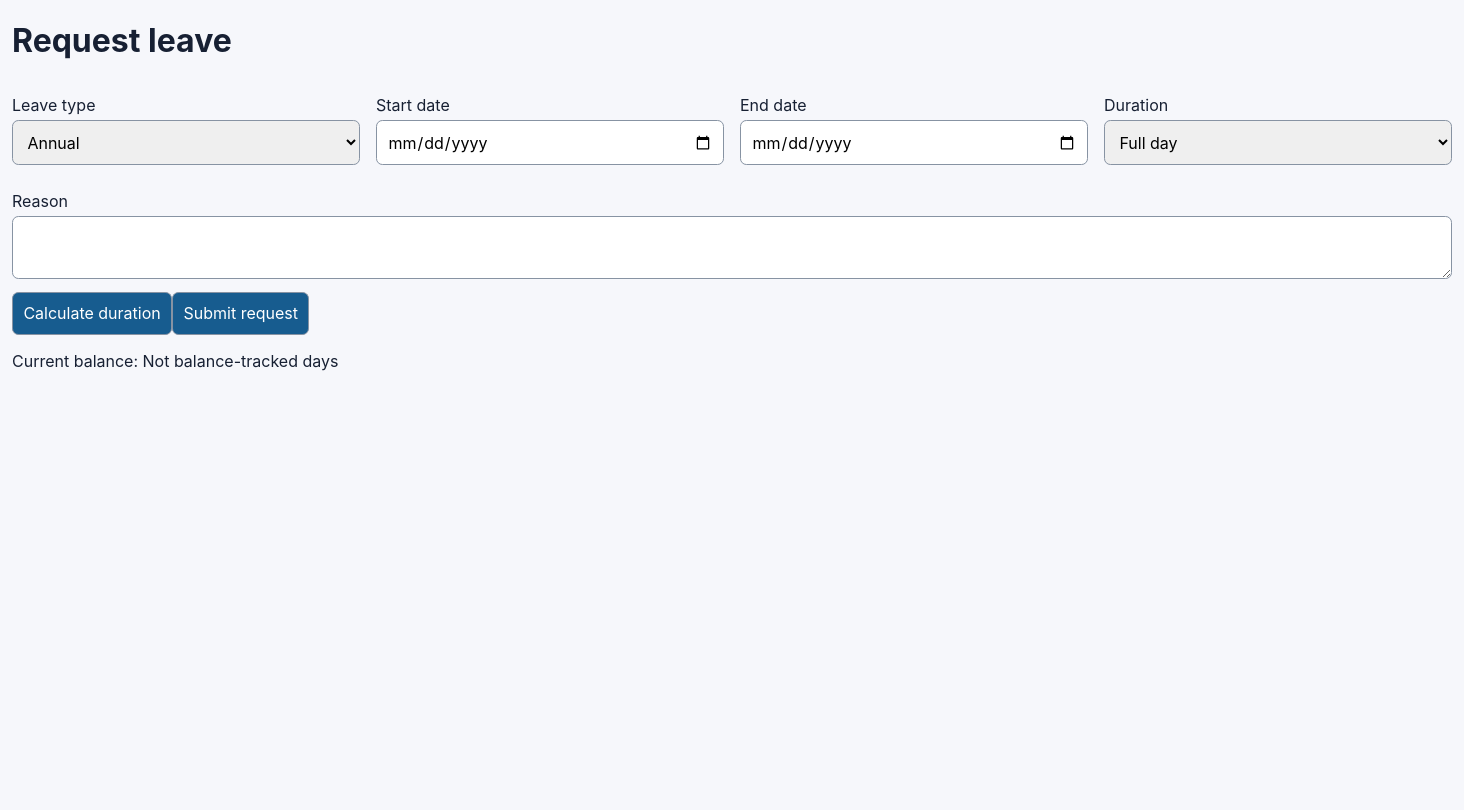
shows actionable LEAVE_OVERLAP submission problems
In the date field labelled "Start date": (550, 143) [376, 120, 724, 165], type "2026-09-01"
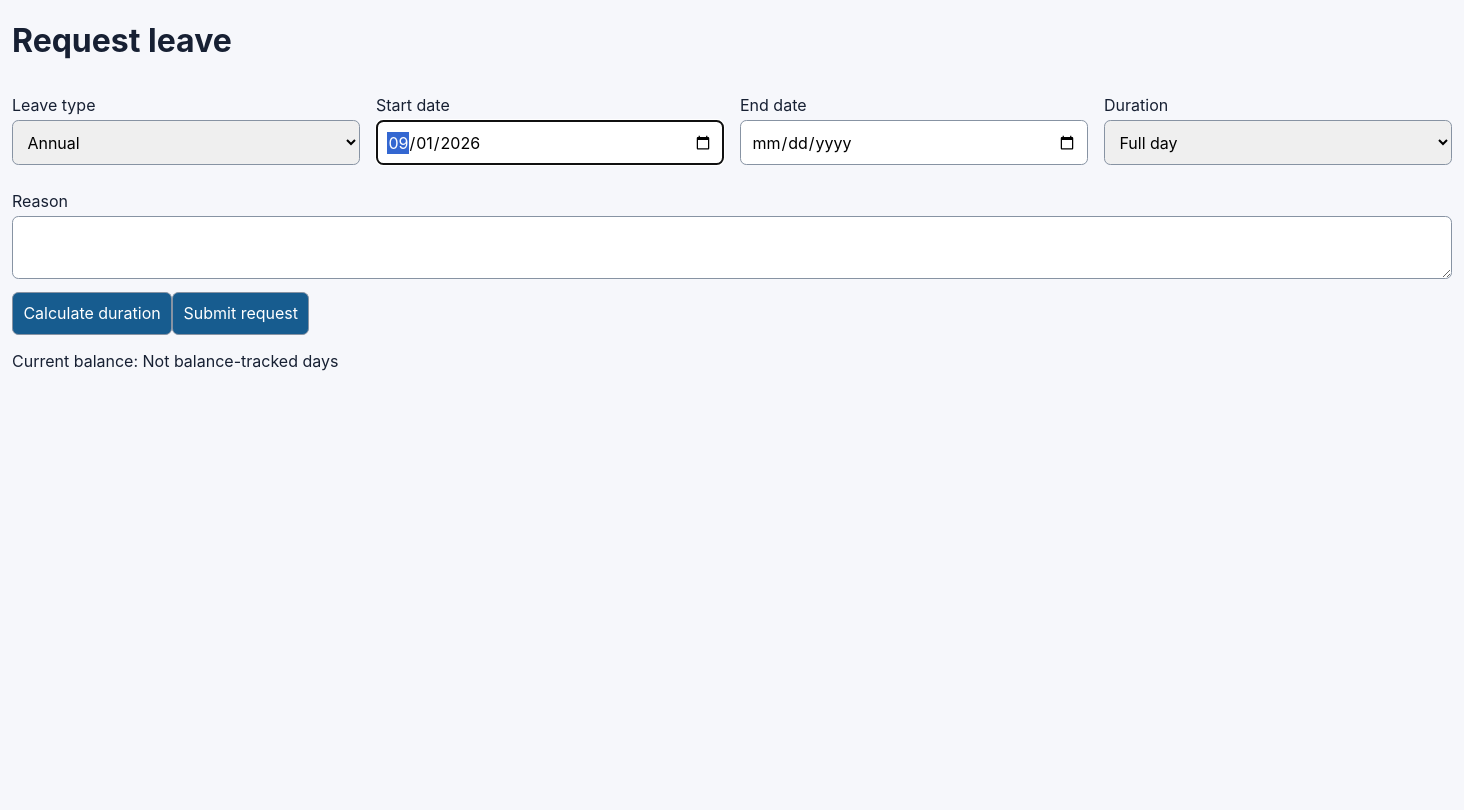
In the date field labelled "End date": (914, 143) [740, 120, 1088, 165], type "2026-09-01"
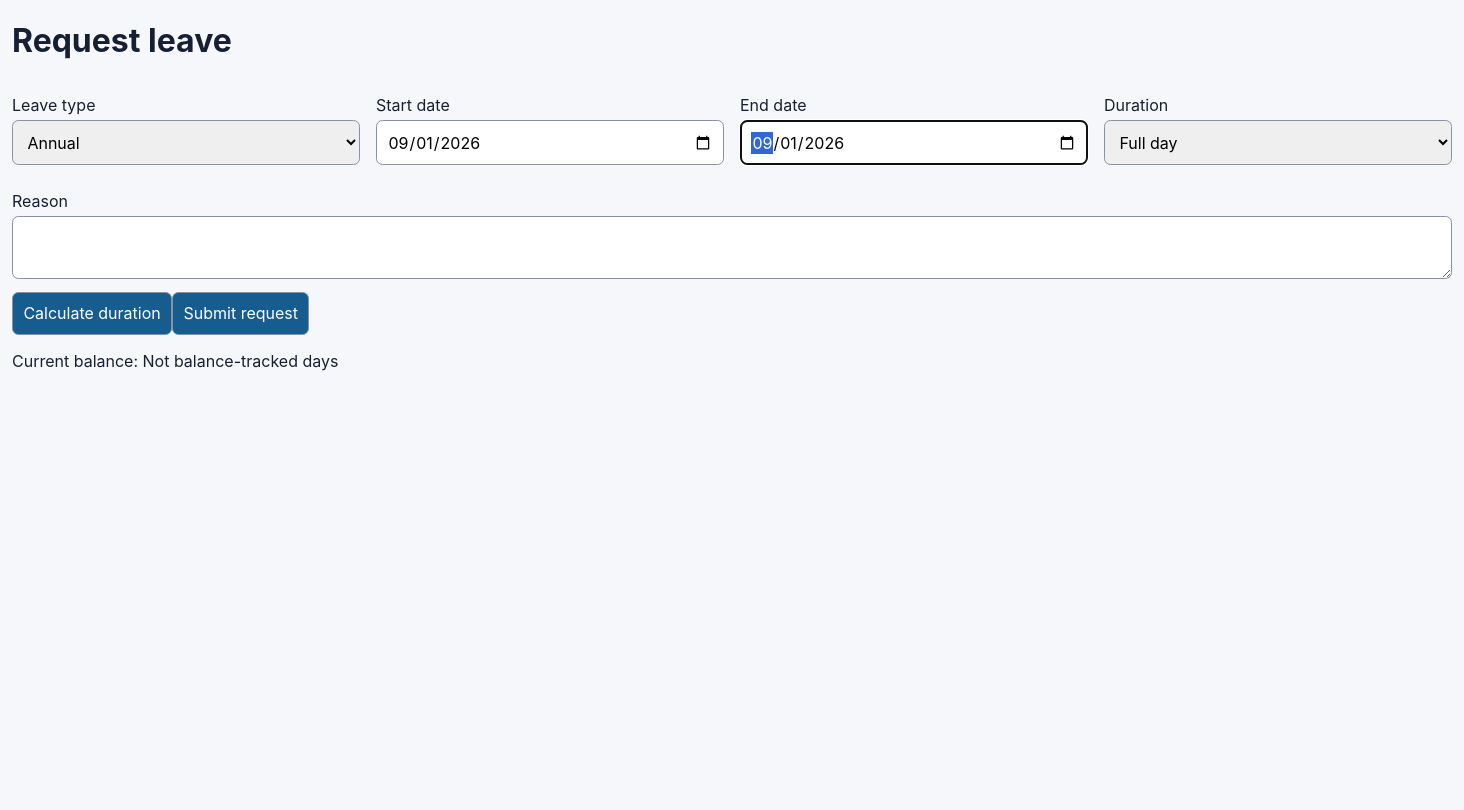
In the text box labelled "Reason": (732, 248) [12, 216, 1452, 279], type "Rest"
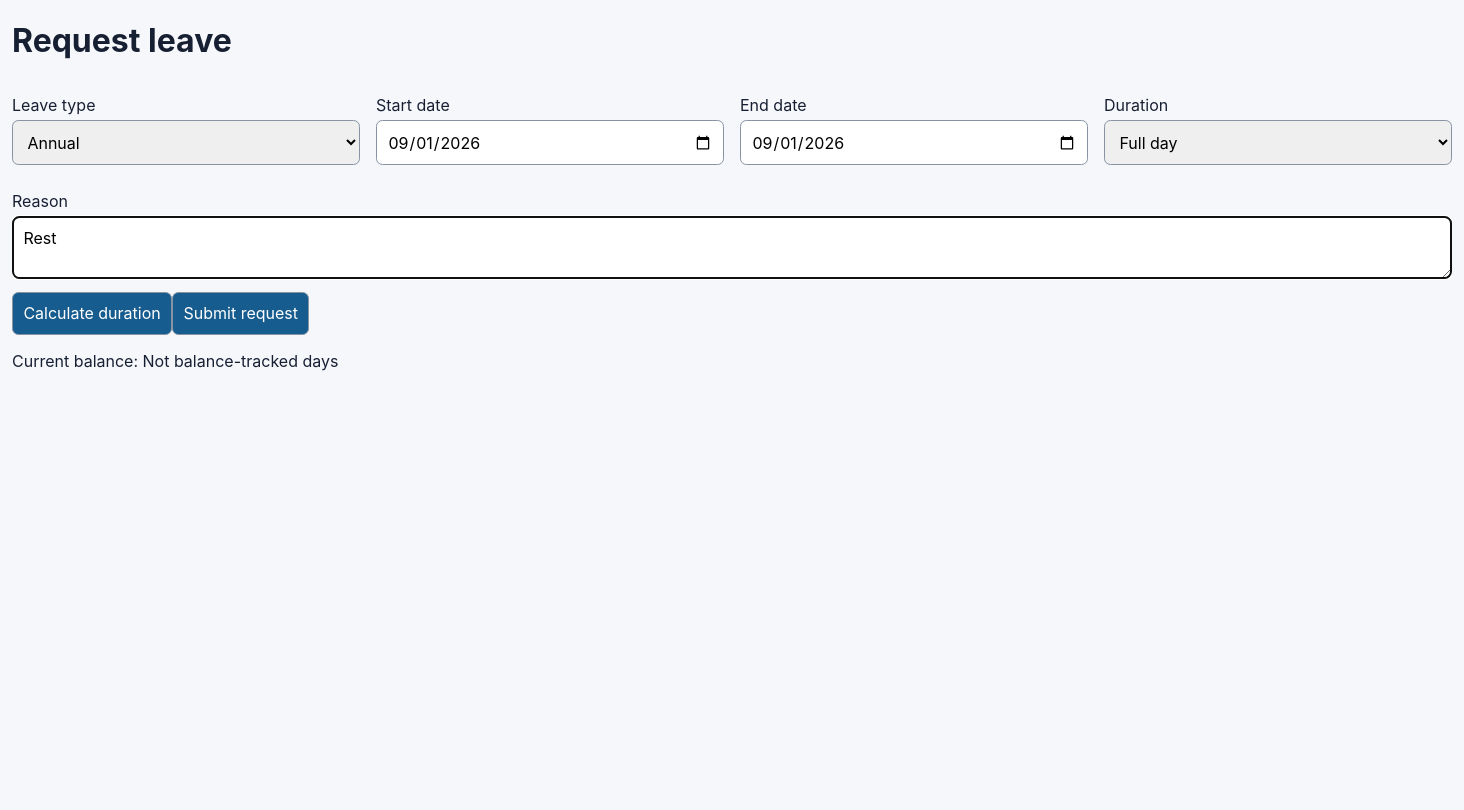
Click the button "Calculate duration": (92, 313) [12, 292, 172, 335]
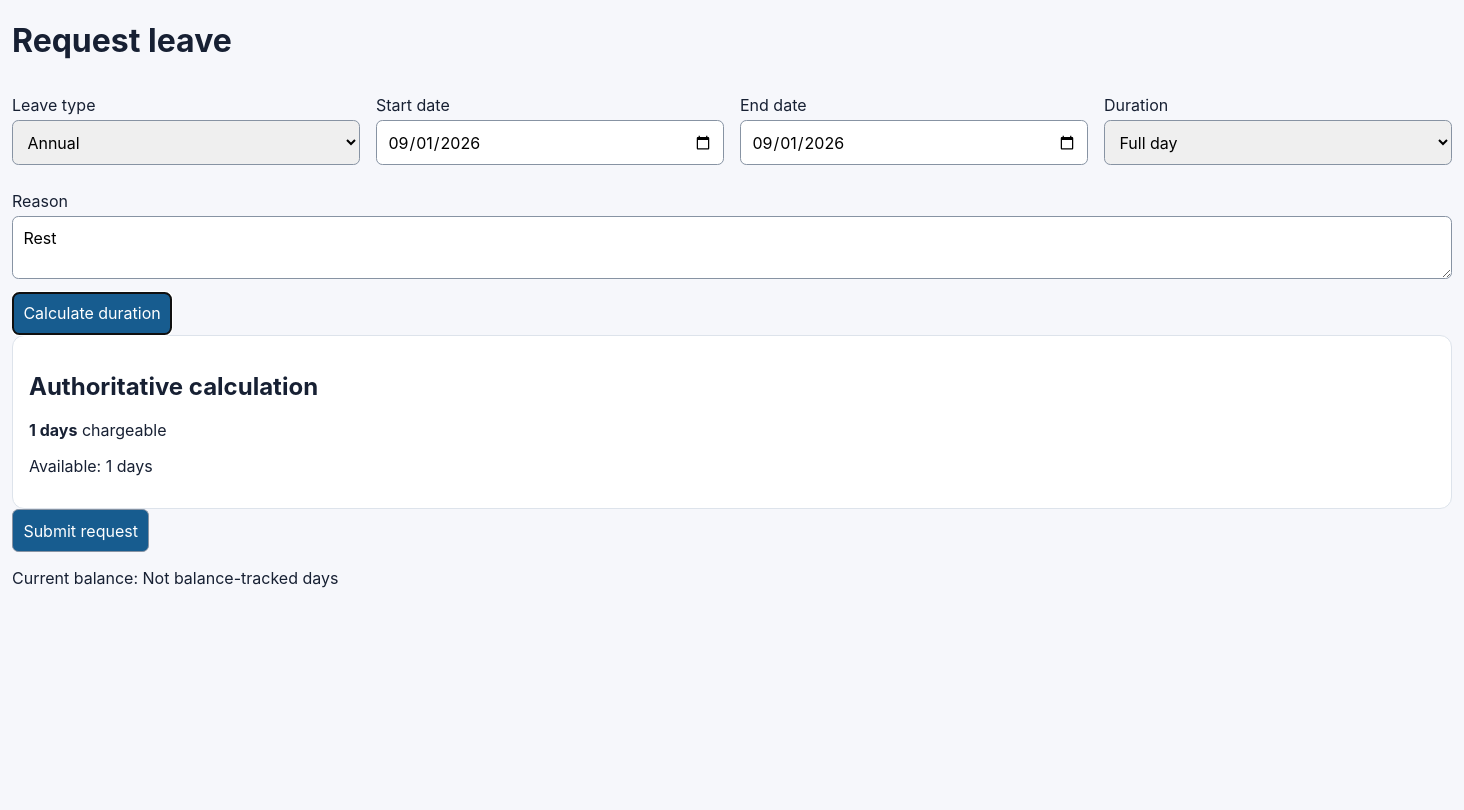
Expected: the text "1 days" is shown, [29, 420, 77, 440]
Click the button "Submit request": (81, 531) [12, 509, 149, 552]
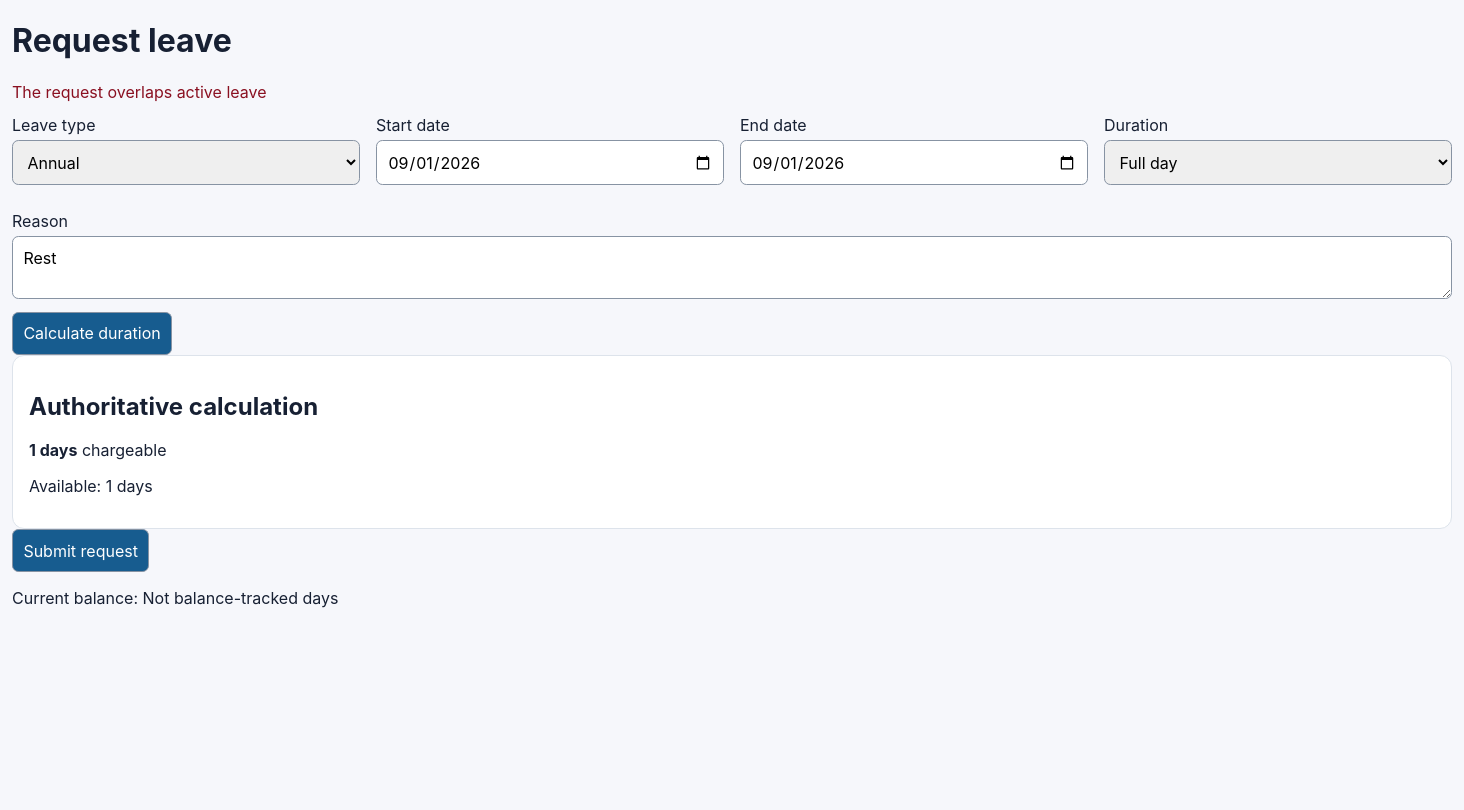
Expected: the text "The request overlaps active leave" is shown, [12, 82, 266, 102]
